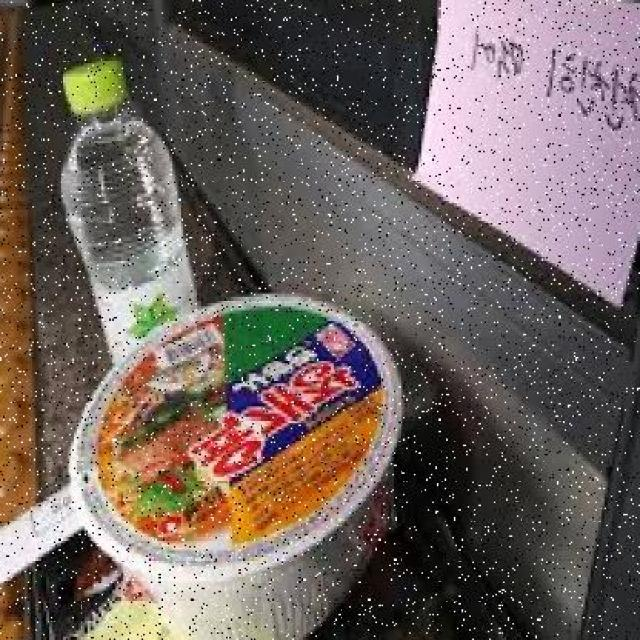Miscellaneous: (68, 286, 400, 640)
